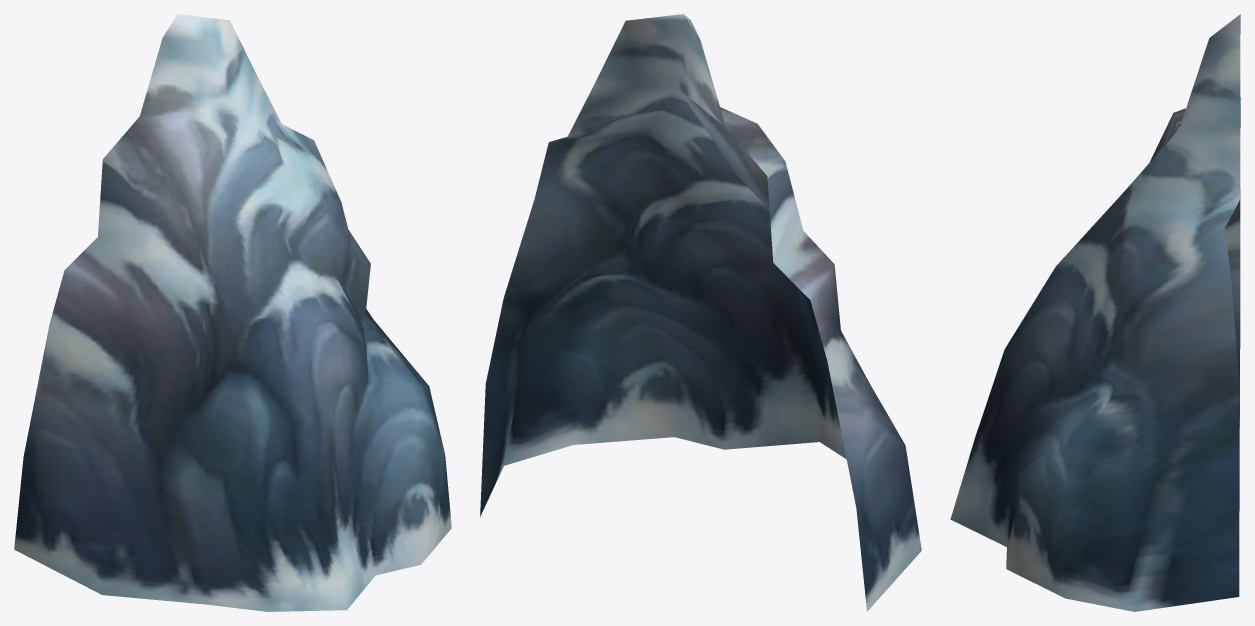
File: h5_xueshan_a.FBX
3 renders of one model, left to right at view 1: azimuth 30°, elevation 25°; view 2: azimuth 150°, elevation 25°; view 3: azimuth 270°, elevation 25°, orthographic. The views are drawn at different scales.
Visible parts, largest first — view 1: h5_xueshan_a; view 2: h5_xueshan_a; view 3: h5_xueshan_a.
Boxes of the visible parts, x1=… form: h5_xueshan_a: x1=14, y1=14, x2=451, y2=611; h5_xueshan_a: x1=480, y1=14, x2=921, y2=611; h5_xueshan_a: x1=950, y1=14, x2=1240, y2=611.
Bounding box in the file's own units: 4.82 × 6.04 × 3.22.
